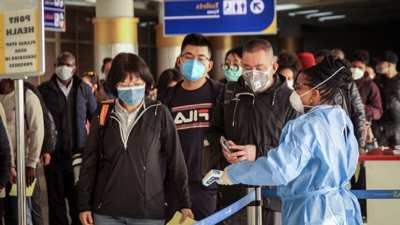with_mask: (179, 50, 208, 83), (242, 62, 272, 92), (116, 78, 146, 108), (289, 81, 311, 111), (222, 58, 242, 82), (54, 61, 73, 81), (349, 64, 365, 80)
